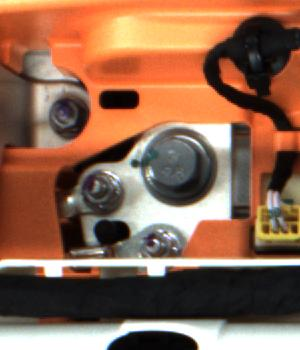nut_b: (135, 123, 221, 205)
screw_s: (81, 172, 124, 212), (47, 97, 85, 138), (133, 231, 185, 258)
